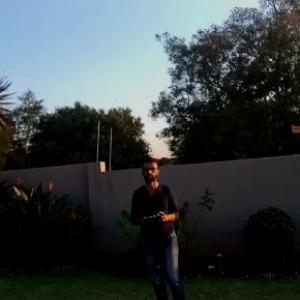follow: (125, 148, 189, 299)
